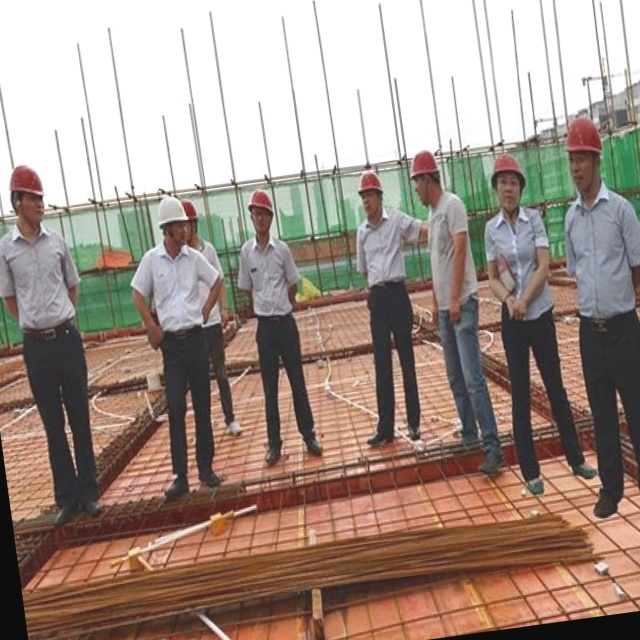Con_Casco: (560, 115, 608, 189), (488, 152, 527, 211)
Sin_Chaleco: (0, 224, 79, 330), (145, 244, 210, 334), (239, 236, 295, 317)
